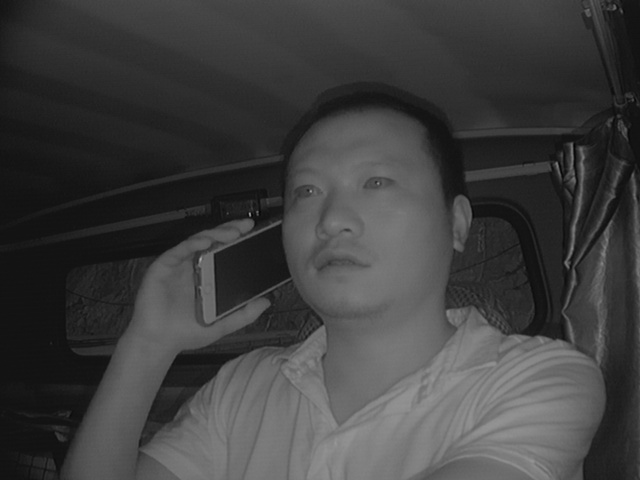hand: (135, 217, 269, 342)
